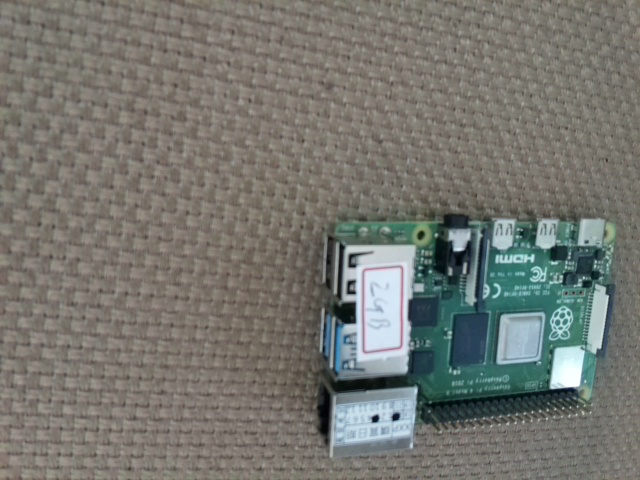Pi4: (308, 209, 618, 463)
